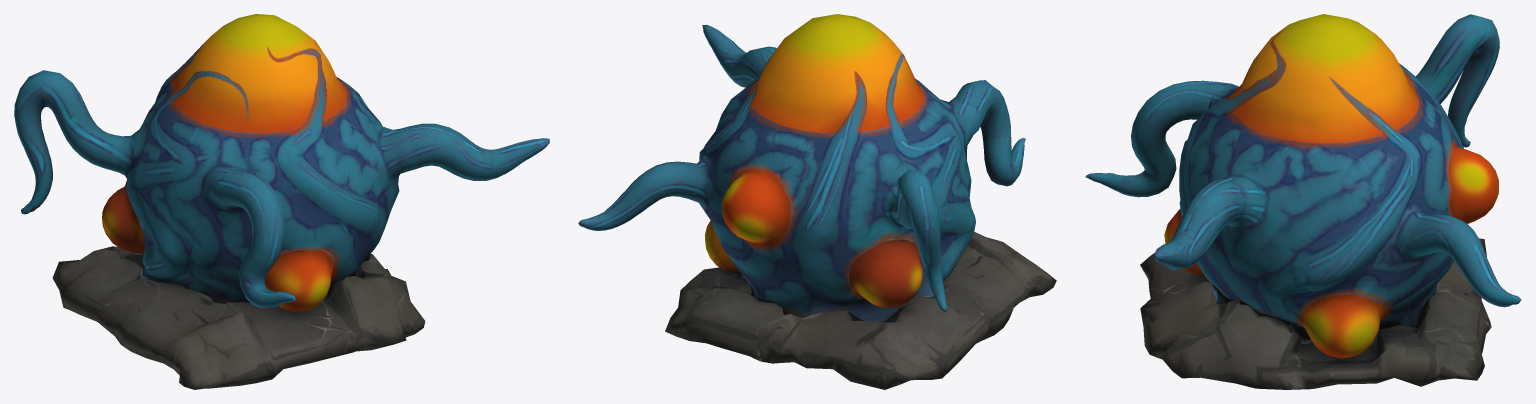
File: Alien Plant.Fbx
The picture shows the model from 3 angles, left to right: view 1: azimuth 30°, elevation 25°; view 2: azimuth 150°, elevation 25°; view 3: azimuth 270°, elevation 25°; orthographic projection. The views are drawn at different scales.
Parts seen in each view (by area): view 1: Merged, Rock; view 2: Merged, Rock; view 3: Merged, Rock.
Part boxes in pixels (x1=…): Merged: x1=14, y1=14, x2=549, y2=311; Rock: x1=52, y1=246, x2=425, y2=389; Merged: x1=578, y1=14, x2=1025, y2=321; Rock: x1=665, y1=231, x2=1056, y2=389; Merged: x1=1085, y1=14, x2=1521, y2=358; Rock: x1=1140, y1=238, x2=1491, y2=389.
Size of the model in its own units: 91.36 by 64.48 by 82.66.
